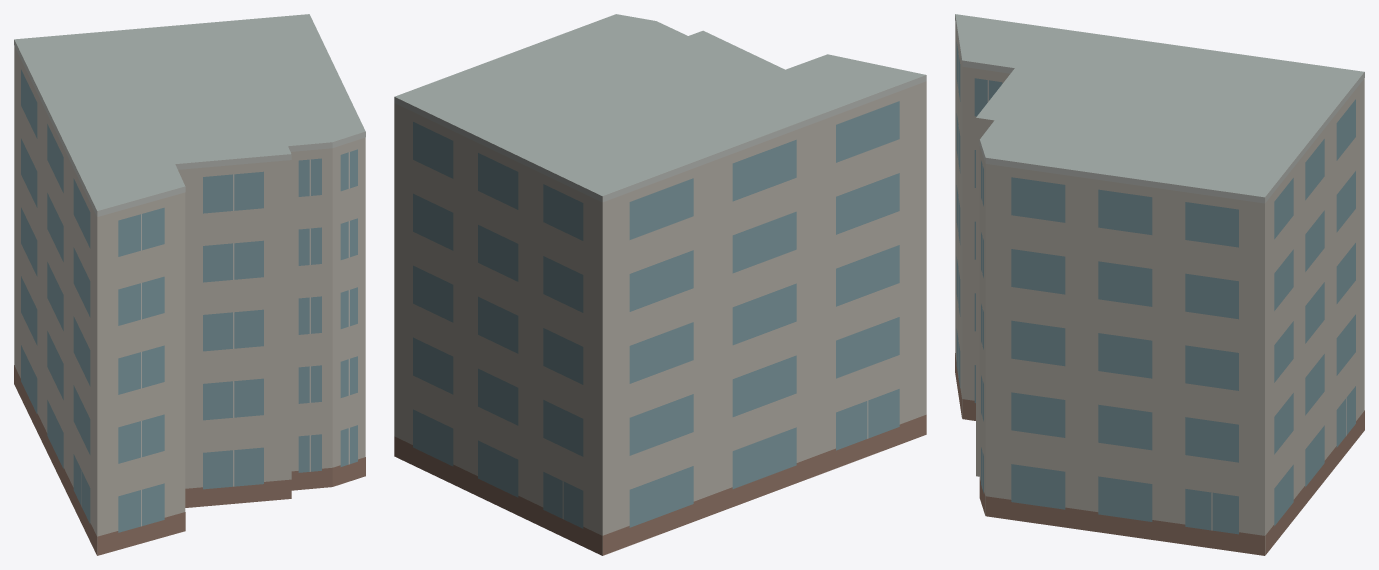
File: survey-upis-32525050.glb
3 views of the same model, side by side, from view 1: azimuth 30°, elevation 25°; view 2: azimuth 150°, elevation 25°; view 3: azimuth 270°, elevation 25° (orthographic). The views are drawn at different scales.
Visible parts, largest first — view 1: survey-upis-32525050.tmp; view 2: survey-upis-32525050.tmp; view 3: survey-upis-32525050.tmp.
Boxes of the visible parts, x1=… form: survey-upis-32525050.tmp: x1=14, y1=14, x2=365, y2=555; survey-upis-32525050.tmp: x1=394, y1=14, x2=926, y2=555; survey-upis-32525050.tmp: x1=955, y1=14, x2=1364, y2=555.
Size of the model in its own units: 15.47 by 14.1 by 14.61.
